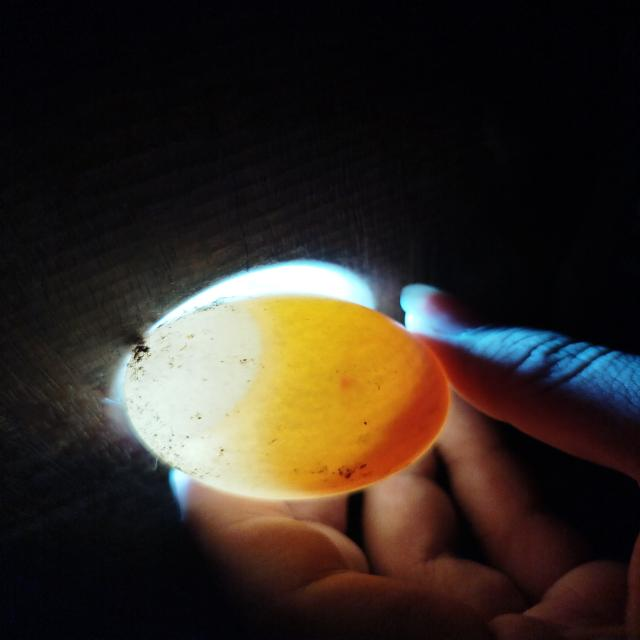Camara de Ar: (125, 304, 260, 433)
Gema Quebrada: (303, 332, 447, 494)
